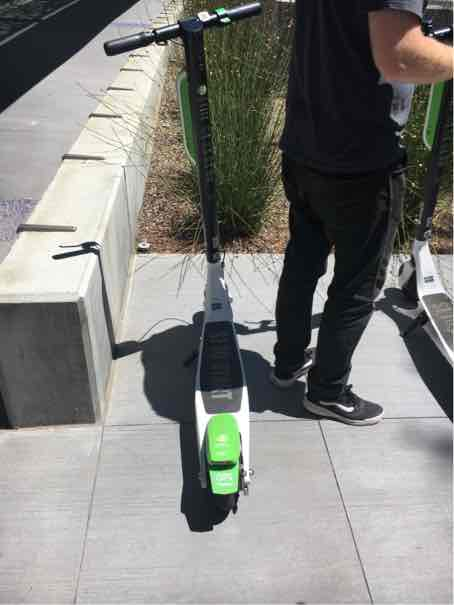scooter: (84, 1, 305, 535)
